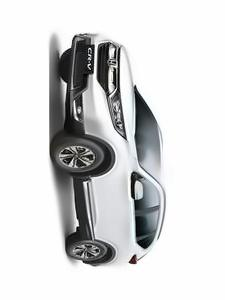Car hood: (117, 45, 138, 157)
Fender - -F-L-: (87, 128, 146, 185)
Fender - -R-L-: (88, 229, 147, 259)
Front bumper: (66, 24, 111, 136)
Headlight - -L-: (106, 87, 127, 141)
Passenger-s door - -F-L-: (81, 171, 168, 214)
Passenger-s door - -R-L-: (80, 199, 172, 245)
Rear bumper: (80, 259, 121, 270)
Rear light - -L-: (127, 251, 141, 266)
Side bumper - -L-: (69, 174, 107, 248)
Side mirror - -L-: (131, 180, 147, 201)
